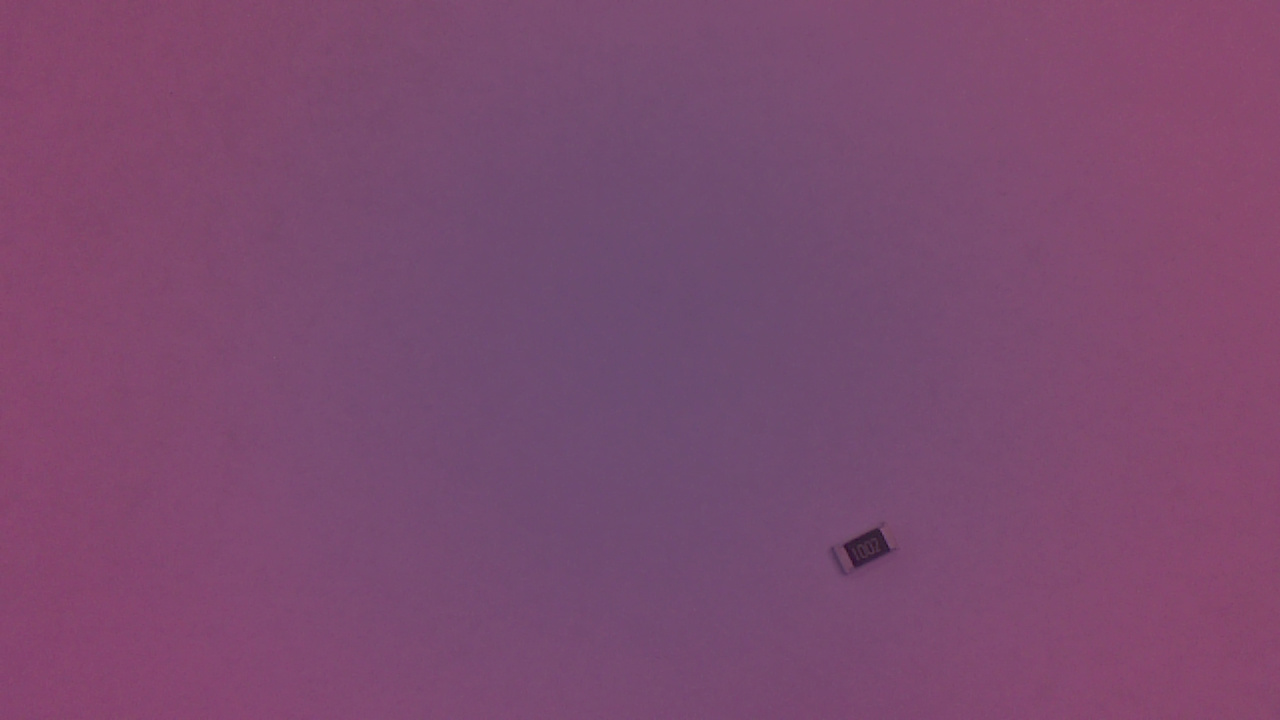Resistor: (825, 516, 906, 584)
